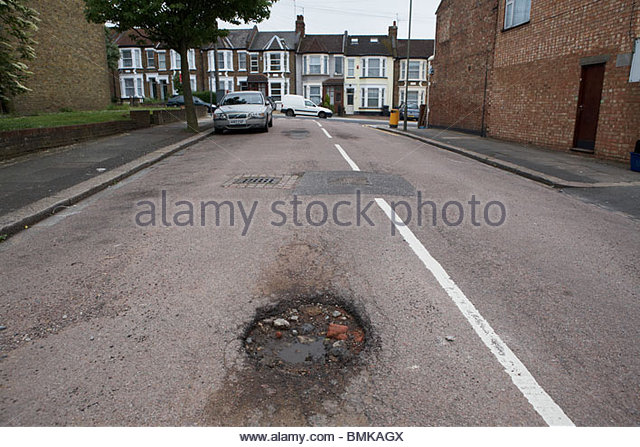pothole: (214, 283, 425, 391)
